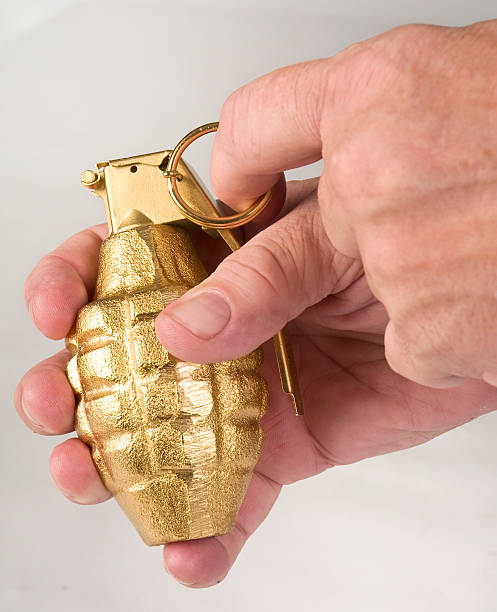e1: (56, 110, 307, 546)
